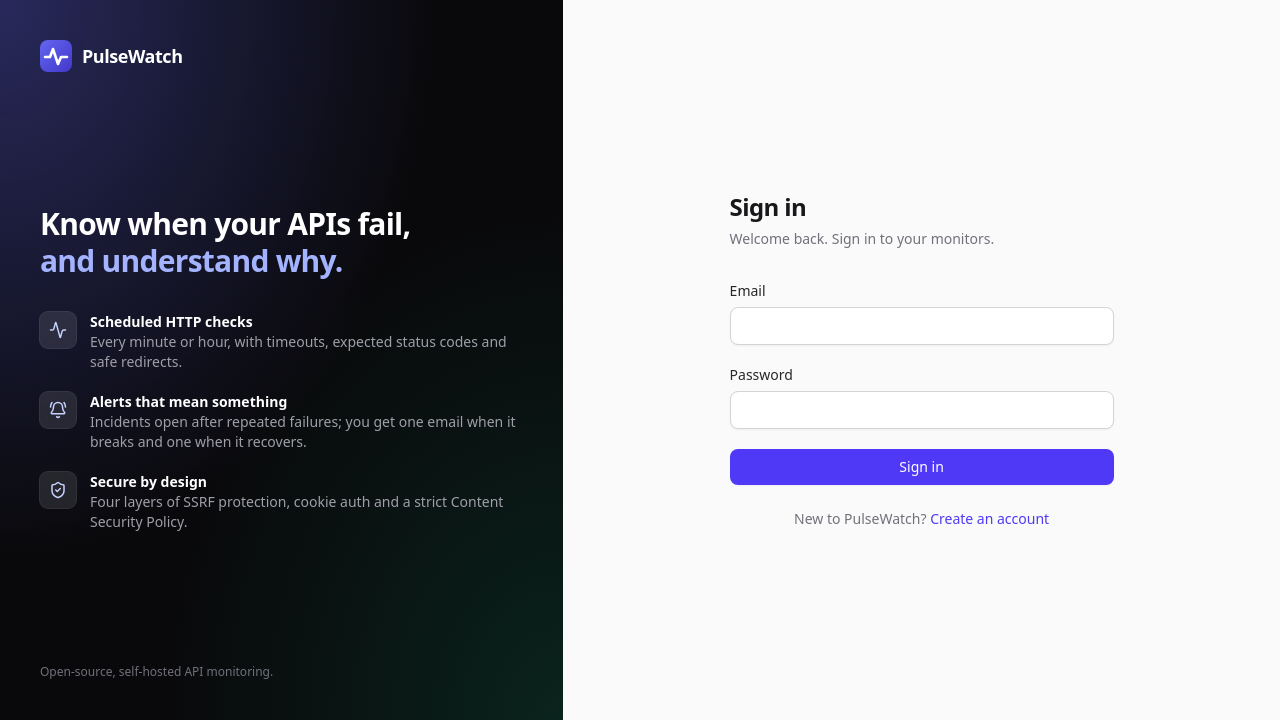
Test: sign-in flow › validates on the client before sending anything
The width and height of the screenshot is (1280, 720).
Click the button "Sign in": click(922, 467) [730,449,1114,485]
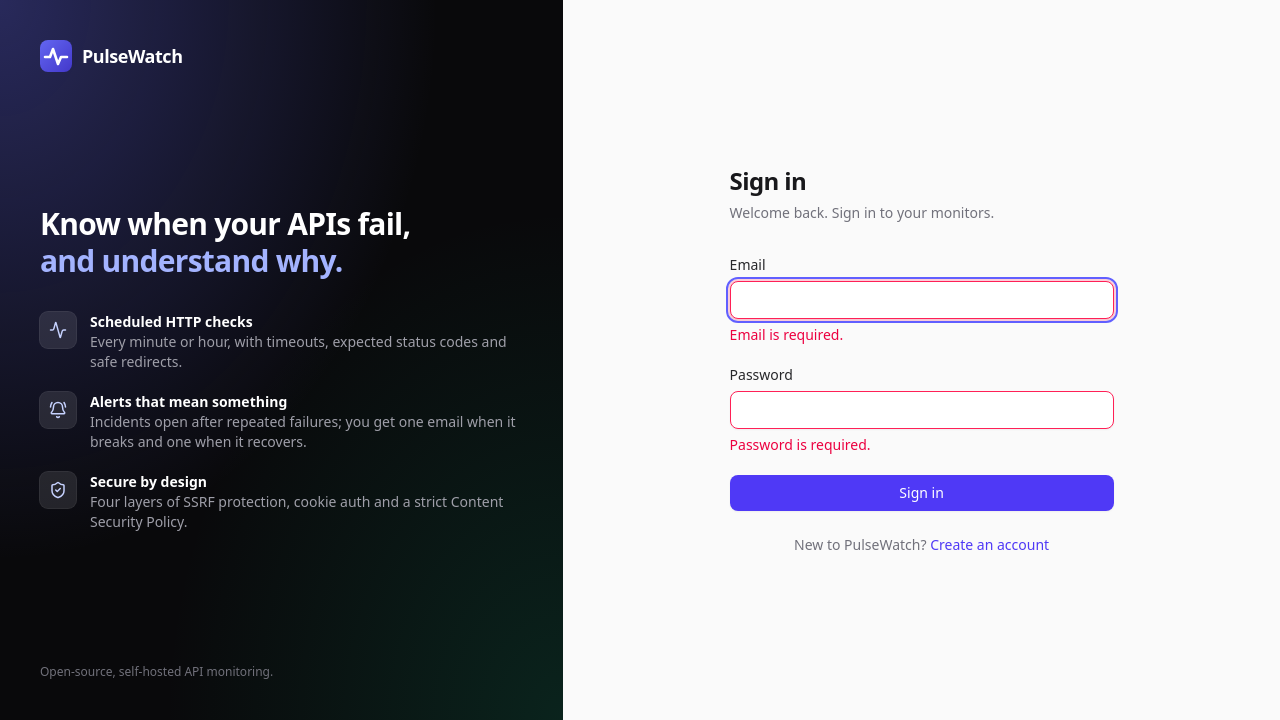
Expected: the text "Email is required." is shown, [730,325,843,344]
Expected: the text "Password is required." is shown, [730,435,871,454]
